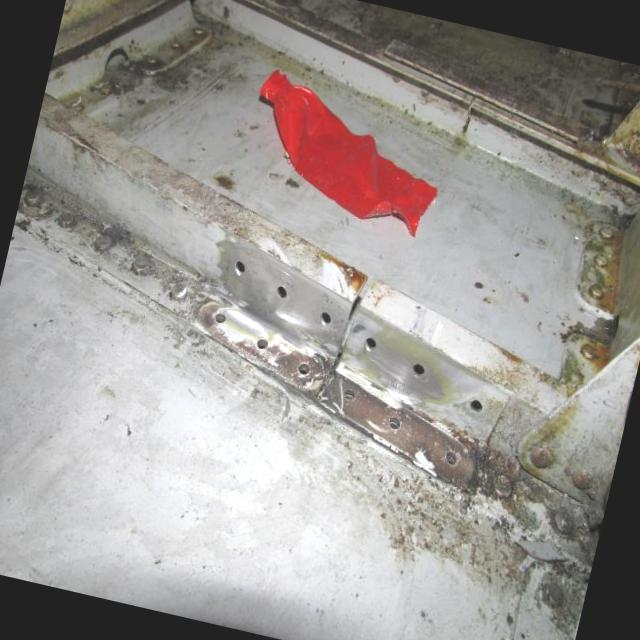Missing Fastener: (428, 432, 470, 477), (452, 384, 493, 429), (283, 352, 325, 392), (400, 354, 438, 389), (202, 298, 236, 336), (329, 378, 364, 414), (310, 300, 343, 338), (356, 325, 386, 363), (380, 408, 412, 440), (223, 250, 254, 282), (246, 330, 276, 361), (265, 278, 297, 306)
